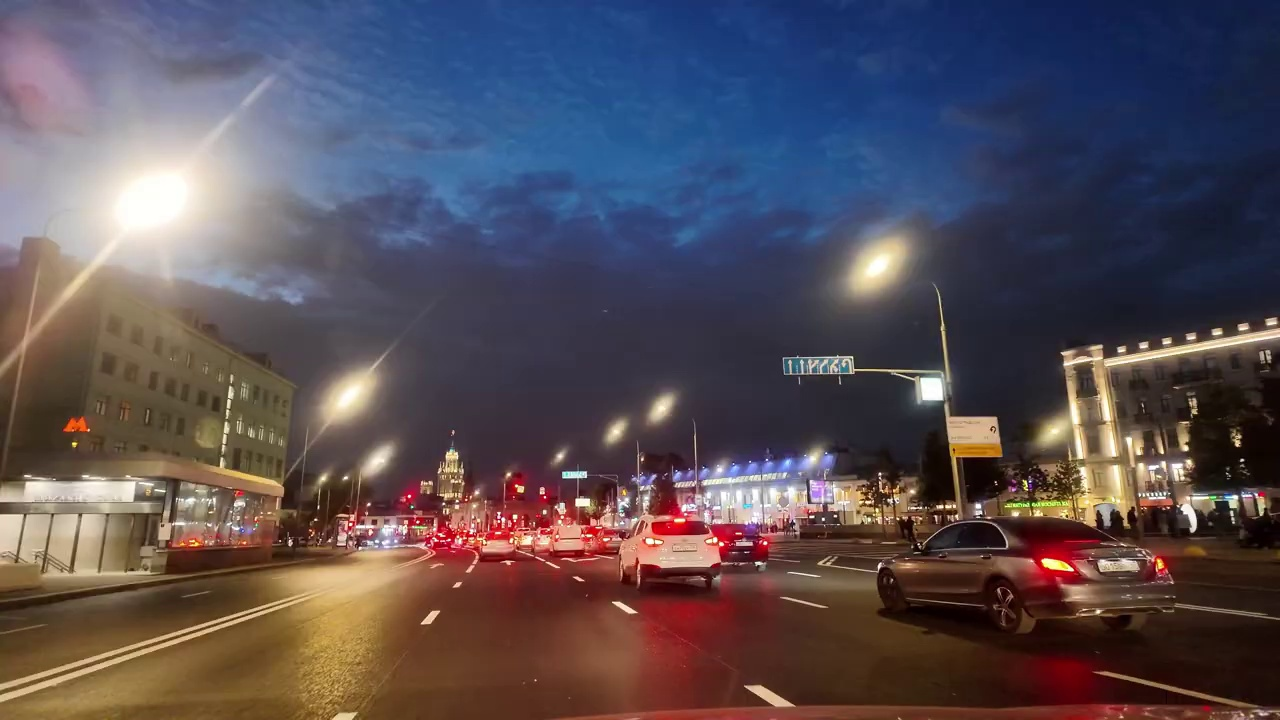acesa: (116, 171, 184, 233), (852, 240, 908, 294), (319, 371, 373, 422), (642, 388, 678, 426), (603, 412, 629, 451)
